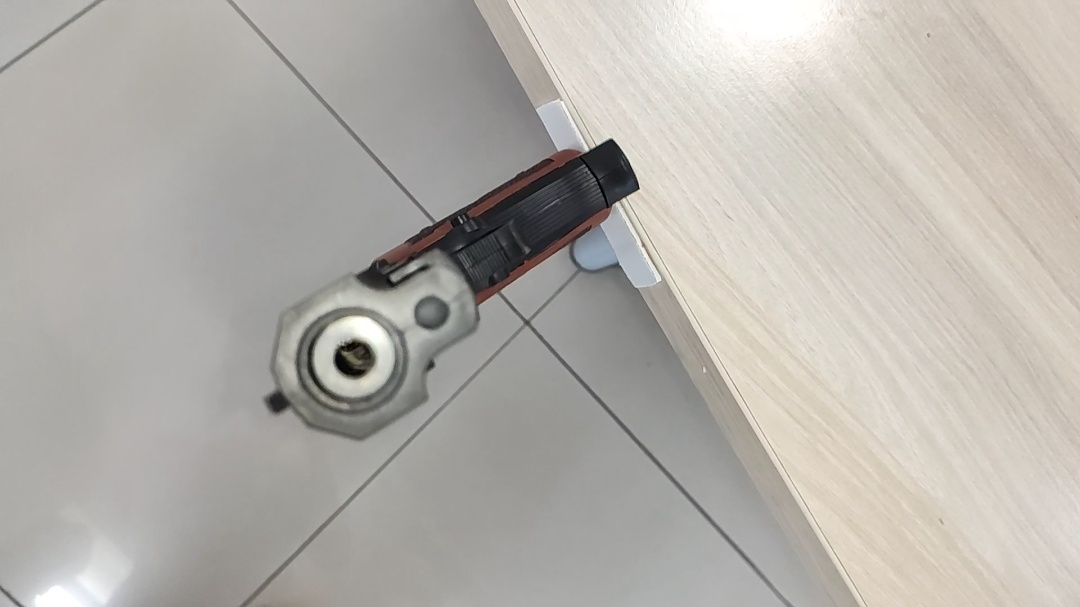gun: (261, 138, 642, 443)
